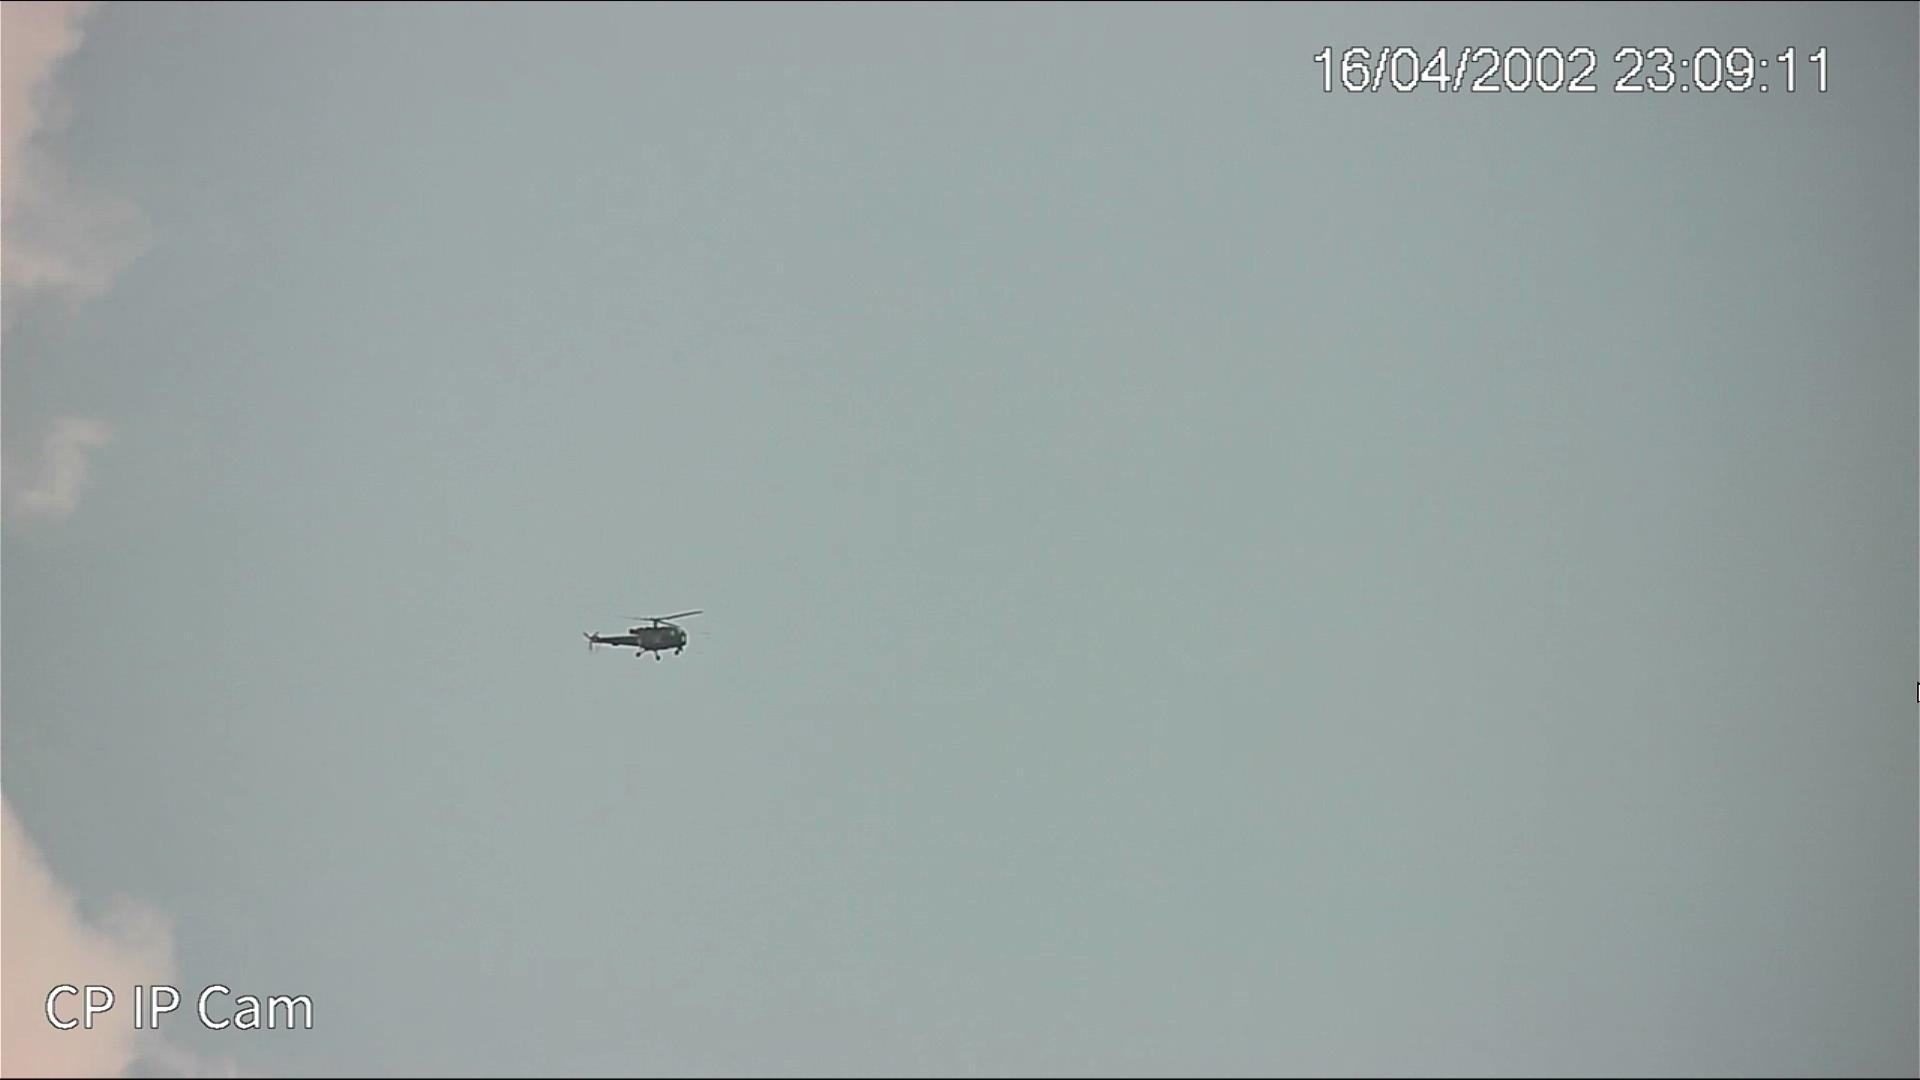SU_30: (571, 608, 688, 665)
